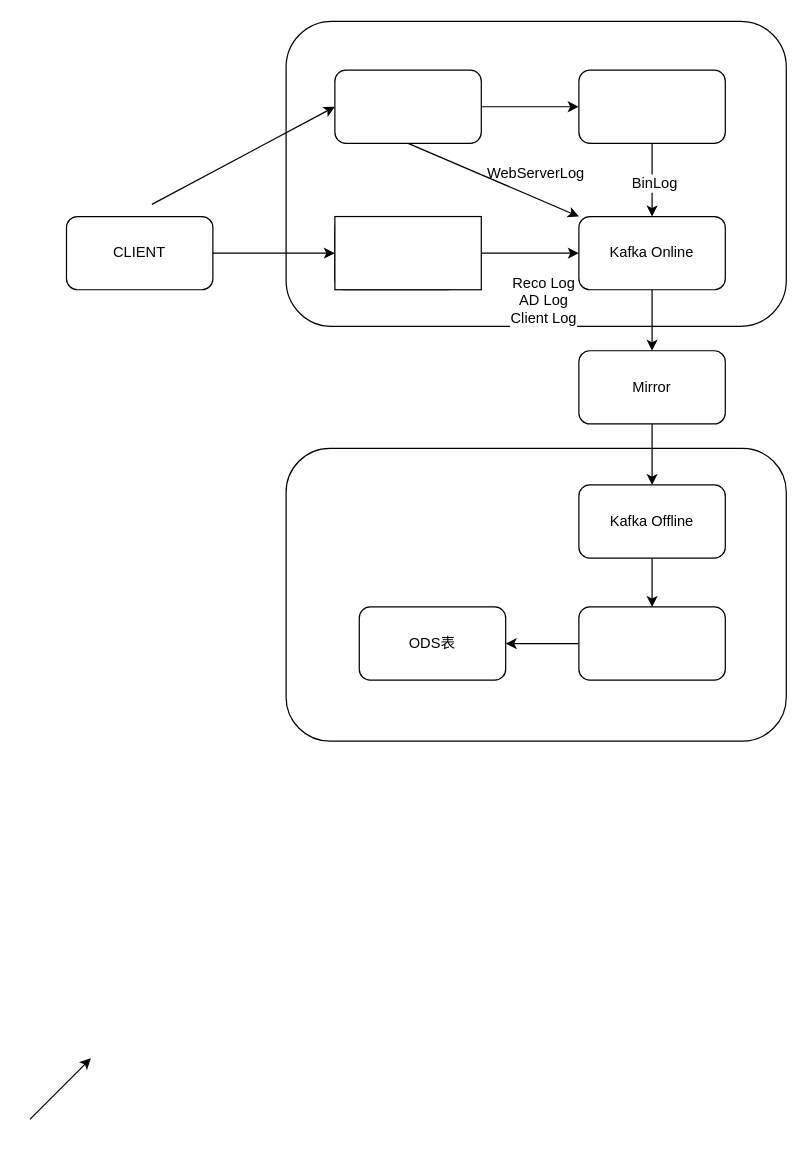
Image size: 808x1150. Some labels were removed from this diagram. The box of each missing label's shape, as (x1, y1, x2, y2) in pixels:
DataSink: (578, 606, 725, 680)
LogServer: (334, 215, 481, 290)
MYSQL: (578, 69, 725, 143)
WebServer: (334, 69, 481, 143)
